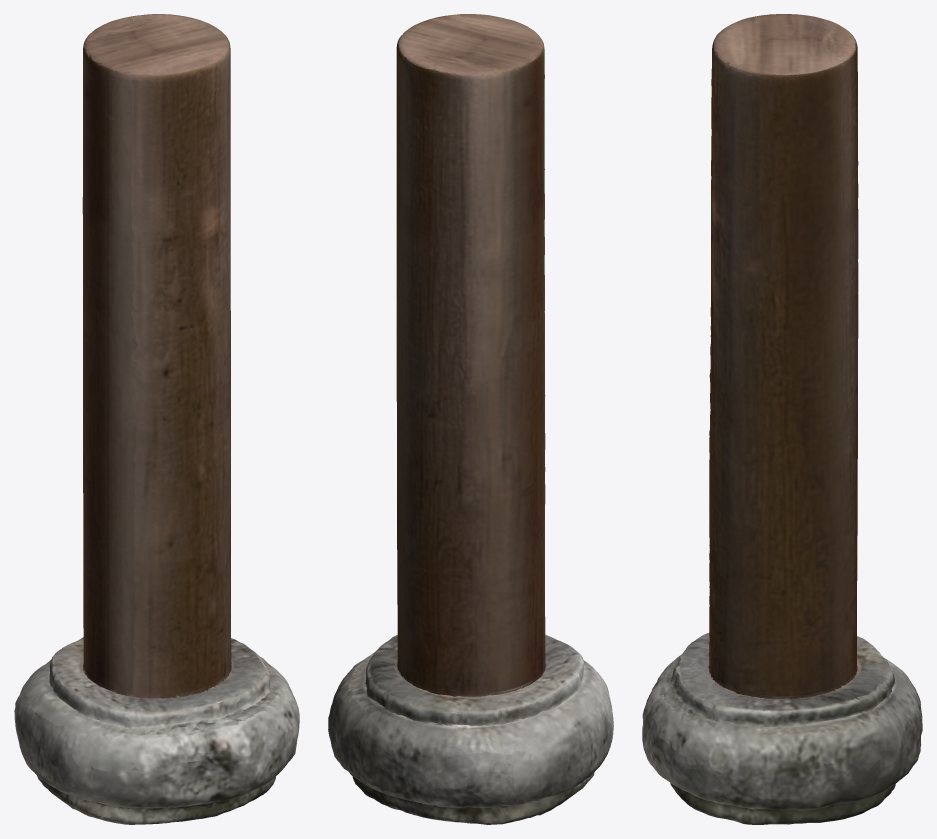
Rendered from pillar.glb.
3 renders of one model, left to right at view 1: azimuth 30°, elevation 25°; view 2: azimuth 150°, elevation 25°; view 3: azimuth 270°, elevation 25°, orthographic.
Parts seen in each view (by area): view 1: geometry_0; view 2: geometry_0; view 3: geometry_0.
Boxes of the visible parts, left/top/right/bottom form: geometry_0: left=14, top=14, right=299, bottom=824; geometry_0: left=328, top=14, right=613, bottom=824; geometry_0: left=642, top=14, right=922, bottom=824.
Size of the model in its own units: 0.307 by 0.9 by 0.3103.
1 material, 1 textured.
